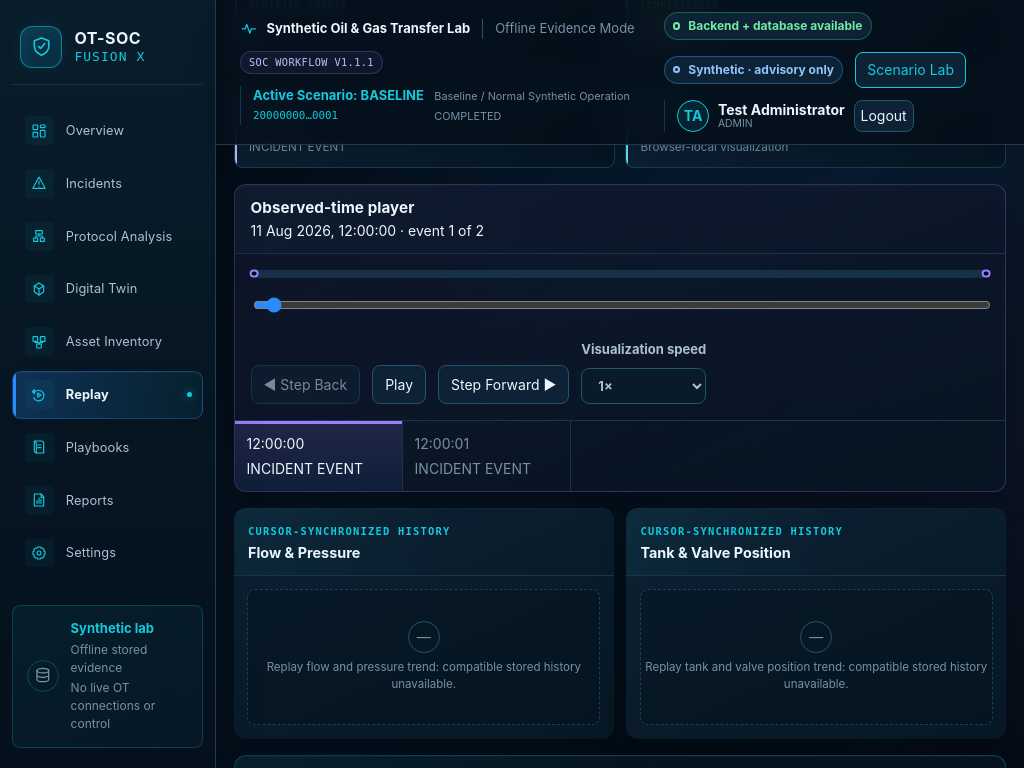
Scenario: Phase 8B product behavior › keeps replay navigation client-only after one bounded read
This screenshot has width=1024, height=768.
(page scrolled)
Check: the text "11 Aug 2026, 12:00:00 · event 1 of 2" is shown, box [251, 220, 484, 241]
Click the button "Step Forward ▶".
click(504, 384)  # box [438, 365, 569, 404]
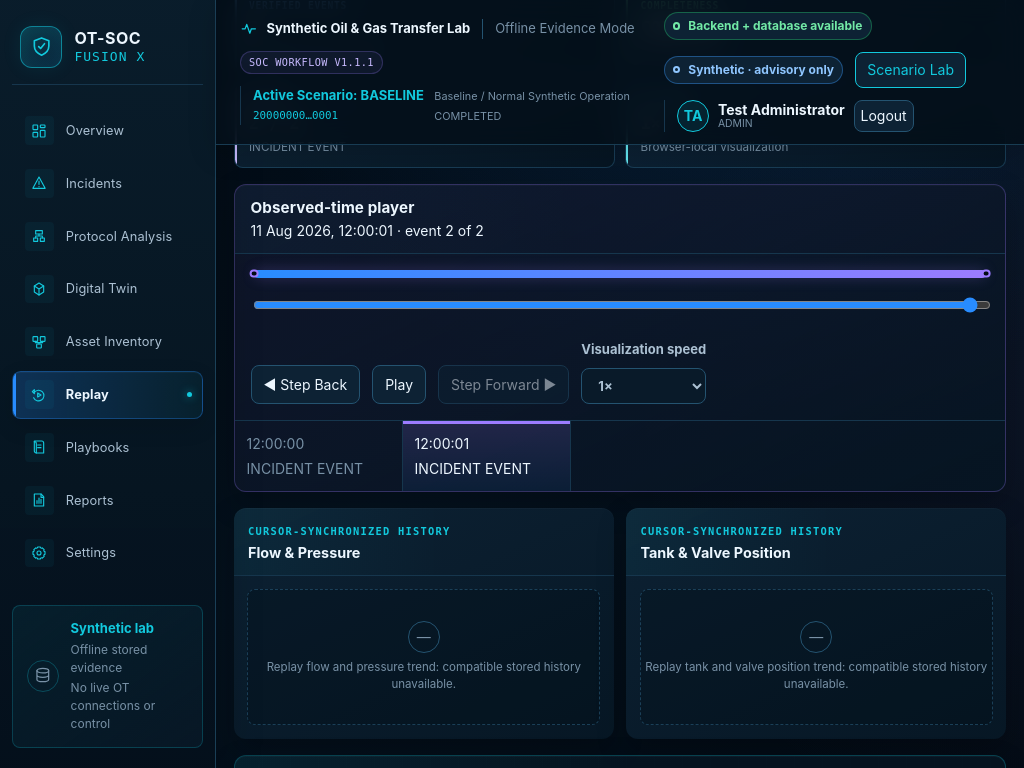
Check: the text "11 Aug 2026, 12:00:01 · event 2 of 2" is shown, box [251, 220, 484, 241]
Click the button "◀ Step Back".
click(305, 384)  # box [251, 365, 360, 404]
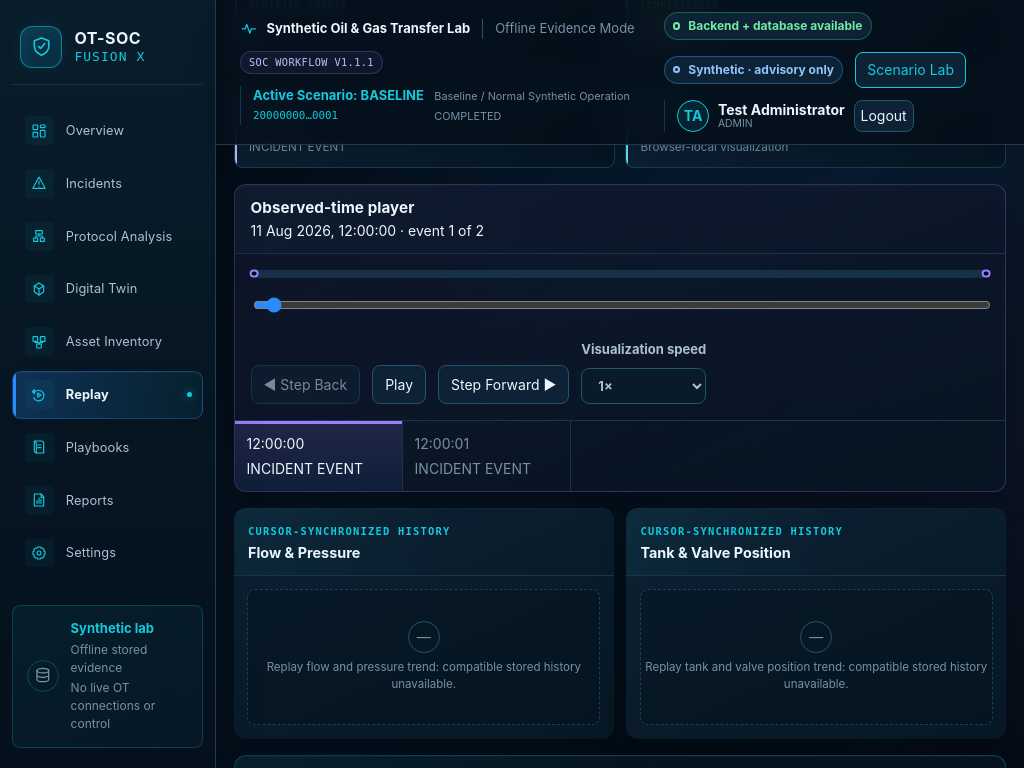
Check: the text "11 Aug 2026, 12:00:00 · event 1 of 2" is shown, box [251, 220, 484, 241]
